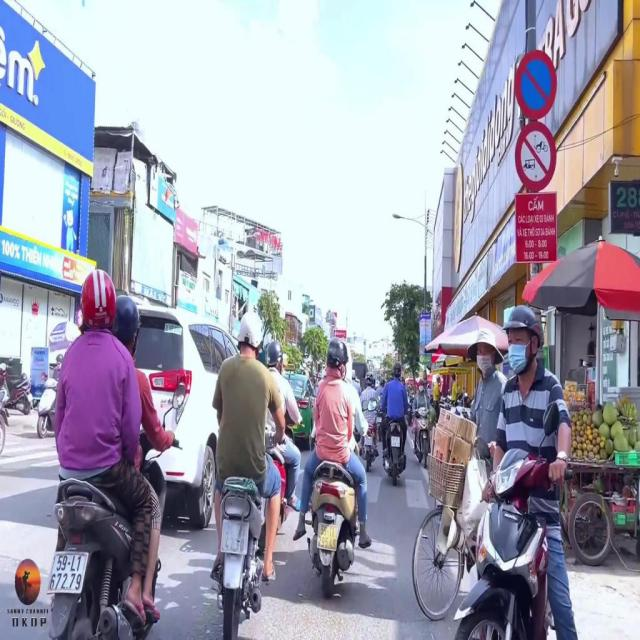cam_cac_loai_xe_3_banh: (514, 122, 556, 192)
cam_do_xe: (514, 51, 558, 120)
